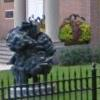Statue: (8, 12, 58, 80)
